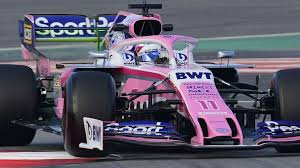FormulaOneCar: (1, 3, 300, 159)
